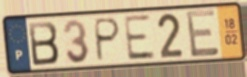2: (157, 11, 187, 61)
3: (61, 17, 91, 66)
B: (26, 20, 61, 68)
E: (184, 7, 222, 60), (121, 13, 157, 63)
P: (94, 17, 123, 64)
